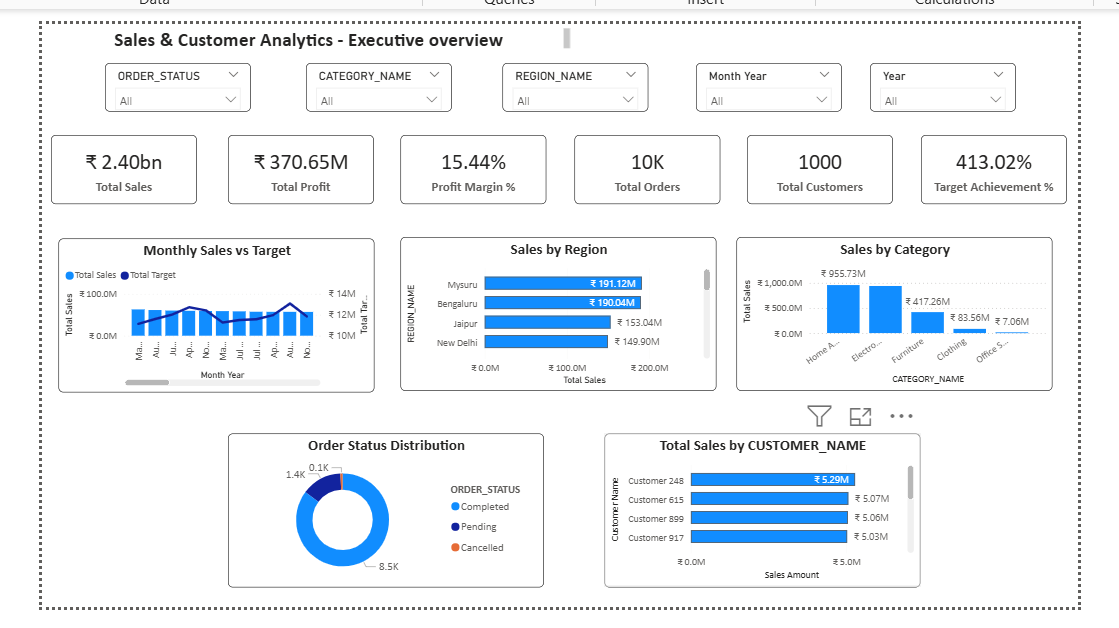

What the dashboard file says about the page in this screenshot:
{"tool":"powerbi","page":{"name":"Sales Executive Dashboard","canvas":[1280,720],"ordinal":0},"visuals":[{"type":"card","fields":{"Values":["Calendar.Total Sales"]},"box":[10.6,136.5,180,85.1],"z":0},{"type":"textbox","box":[9.7,0,647.7,37.2],"z":1000},{"type":"card","fields":{"Values":["DAX_MEASURES.Total Profit"]},"box":[229.8,136.5,180,85],"z":2000},{"type":"card","fields":{"Values":["DAX_MEASURES.Profit Margin %"]},"box":[443.5,136.5,180,85],"z":3000},{"type":"card","fields":{"Values":["DAX_MEASURES.Total Orders"]},"box":[657.2,136.5,180,85],"z":4000},{"type":"card","fields":{"Values":["DAX_MEASURES.Total Customers"]},"box":[871,136.5,180,85],"z":5000},{"type":"card","fields":{"Values":["DAX_MEASURES.Target Achievement %"]},"box":[1084.7,136.5,180,85],"z":6000},{"type":"lineClusteredColumnComboChart","title":"Monthly Sales vs Target","fields":{"Category":["Calendar.Month Year"],"Y":["DAX_MEASURES.Total Sales"],"Y2":["DAX_MEASURES.Total Target"]},"box":[19.4,265.3,390.3,190],"z":7000},{"type":"clusteredBarChart","title":"Sales by Region","fields":{"Category":["SALES_REGIONS.REGION_NAME"],"Y":["DAX_MEASURES.Total Sales"]},"box":[443.1,262.5,390.3,190],"z":8000},{"type":"clusteredColumnChart","title":"Sales by Category","fields":{"Category":["SALES_CATEGORIES.CATEGORY_NAME"],"Y":["DAX_MEASURES.Total Sales"]},"box":[856.9,262.5,390.3,190.3],"z":9000},{"type":"donutChart","title":"Order Status Distribution","fields":{"Category":["SALES_ORDERS.ORDER_STATUS"],"Y":["DAX_MEASURES.Total Orders"]},"box":[229.3,505.2,390,190],"z":10000},{"type":"clusteredBarChart","fields":{"Category":["SALES_CUSTOMERS.CUSTOMER_NAME"],"Y":["DAX_MEASURES.Total Sales"]},"box":[694.8,505.2,390,190],"z":11000},{"type":"slicer","fields":{"Values":["Calendar.YEAR"]},"box":[1021.5,48.6,180,60],"z":12000},{"type":"slicer","fields":{"Values":["Calendar.Month Year"]},"box":[806.9,48.6,180,60],"z":13000},{"type":"slicer","fields":{"Values":["SALES_REGIONS.REGION_NAME"]},"box":[568.8,48.6,180,60],"z":14000},{"type":"slicer","fields":{"Values":["SALES_CATEGORIES.CATEGORY_NAME"]},"box":[326.4,48.6,180,60],"z":15000},{"type":"slicer","fields":{"Values":["SALES_ORDERS.ORDER_STATUS"]},"box":[77.1,48.6,180,60],"z":16000}]}

Visuals, with their boxes on the page's 1280x720 design canvas (x1, y1, x2, y2). These are canvas units, not pixel positions in the 1119x628 screenshot, which may show the page scaled, cropped or inside an application window:
card - Calendar.Total Sales: 11, 136, 191, 222
textbox: 10, 0, 657, 37
card - DAX_MEASURES.Total Profit: 230, 136, 410, 222
card - DAX_MEASURES.Profit Margin %: 444, 136, 624, 222
card - DAX_MEASURES.Total Orders: 657, 136, 837, 222
card - DAX_MEASURES.Total Customers: 871, 136, 1051, 222
card - DAX_MEASURES.Target Achievement %: 1085, 136, 1265, 222
"Monthly Sales vs Target" lineClusteredColumnComboChart: 19, 265, 410, 455
"Sales by Region" clusteredBarChart: 443, 262, 833, 452
"Sales by Category" clusteredColumnChart: 857, 262, 1247, 453
"Order Status Distribution" donutChart: 229, 505, 619, 695
clusteredBarChart - SALES_CUSTOMERS.CUSTOMER_NAME x DAX_MEASURES.Total Sales: 695, 505, 1085, 695
slicer - Calendar.YEAR: 1022, 49, 1202, 109
slicer - Calendar.Month Year: 807, 49, 987, 109
slicer - SALES_REGIONS.REGION_NAME: 569, 49, 749, 109
slicer - SALES_CATEGORIES.CATEGORY_NAME: 326, 49, 506, 109
slicer - SALES_ORDERS.ORDER_STATUS: 77, 49, 257, 109
